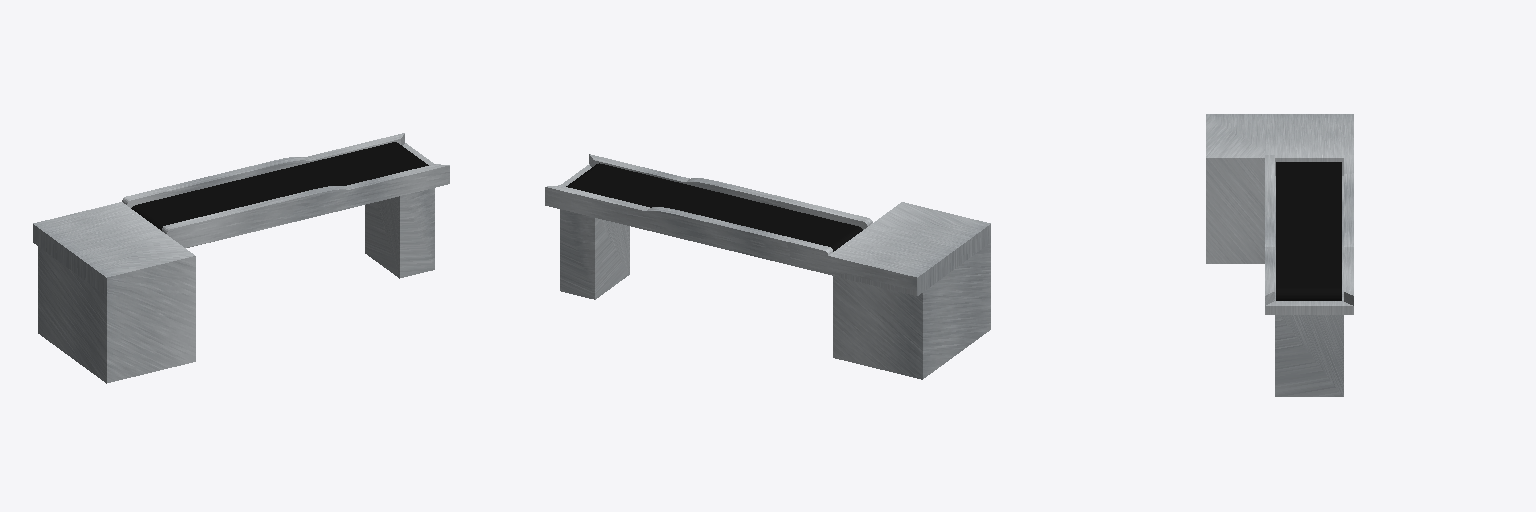
The picture shows the model from 3 angles: view 1: azimuth 30°, elevation 25°; view 2: azimuth 150°, elevation 25°; view 3: azimuth 270°, elevation 25°; orthographic projection.
Parts seen in each view (by area): view 1: Cube_Cube.001; view 2: Cube_Cube.001; view 3: Cube_Cube.001.
Boxes of the visible parts, box(x1,y1,x2,y2) form: Cube_Cube.001: box(33, 133, 449, 383); Cube_Cube.001: box(545, 154, 990, 379); Cube_Cube.001: box(1206, 114, 1353, 396).
Bounding box in the file's own units: 3.13 × 0.8839 × 1.07.
1 materials, 1 textured.